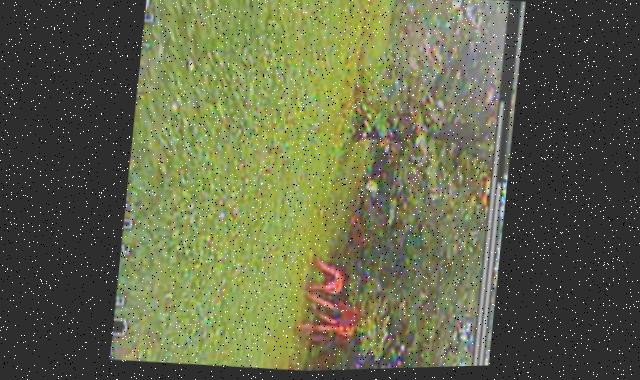horse: (296, 299, 373, 351), (309, 255, 345, 293)
